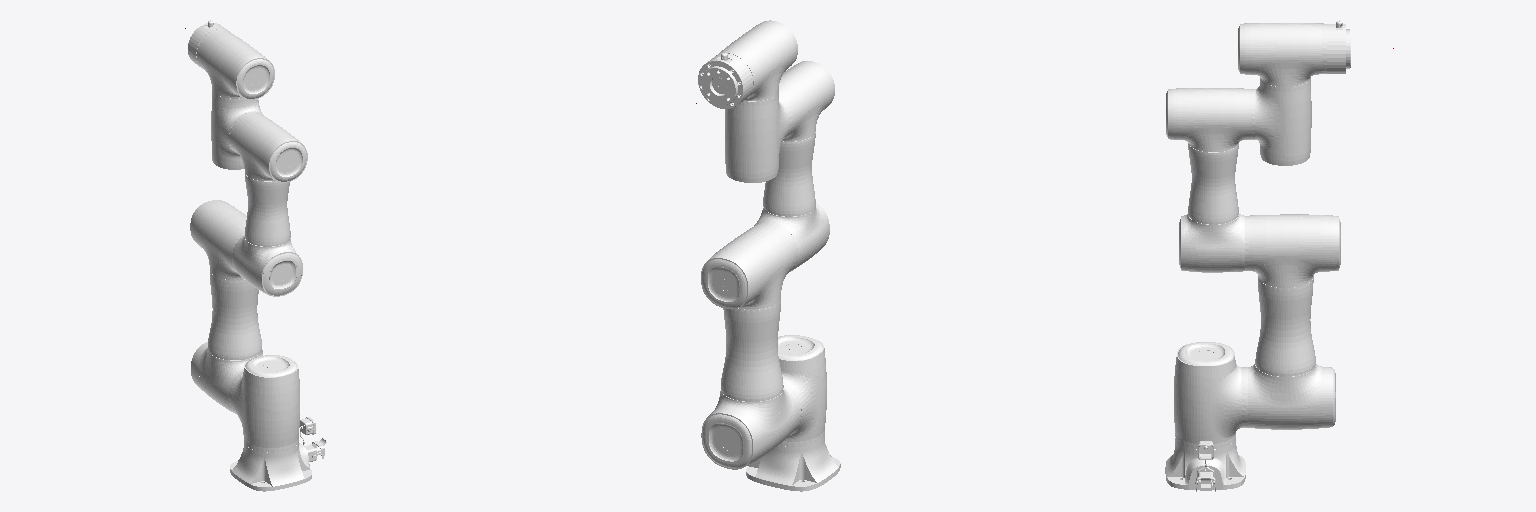
The robot description file, URDF, robot "cr3_robot":
<?xml version="1.0" ?>
<robot name="cr3_robot">
	<link name="world">
		<inertial>
			<origin rpy="0.00000 -0.00000 0.00000" xyz="0.00000 0.00000 0.00000"/>
			<mass value="0.00000"/>
			<inertia ixx="0.00000" ixy="0" ixz="0" iyy="0.00000" iyz="0" izz="0.00000"/>
		</inertial>
	</link>
	<link name="base_link">
		<inertial>
			<origin rpy="0.00000 -0.00000 0.00000" xyz="-0.00272 0.00000 0.02204"/>
			<mass value="0.65300"/>
			<inertia ixx="0.00150" ixy="0" ixz="0" iyy="0.00228" iyz="0" izz="0.00280"/>
		</inertial>
		<visual>
			<origin rpy="0.00000 -0.00000 0.00000" xyz="0.00000 0.00000 0.00000"/>
			<geometry>
				<mesh filename="../robot_arm_assets/cr3/meshes/base_link.STL" scale="1.00000 1.00000 1.00000"/>
			</geometry>
			<material name="mat_0">
				<color rgba="1.00000 1.00000 1.00000 1.00000" />
			</material>
		</visual>
		<collision>
			<origin rpy="0.00000 -0.00000 0.00000" xyz="0.00000 0.00000 0.00000"/>
			<geometry>
				<mesh filename="../robot_arm_assets/cr3/meshes/base_link.STL" scale="1.00000 1.00000 1.00000"/>
			</geometry>
		</collision>
	</link>
	<link name="Link1">
		<inertial>
			<origin rpy="0.00000 -0.00000 0.00000" xyz="-0.00004 -0.00395 0.00364"/>
			<mass value="1.31101"/>
			<inertia ixx="0.00417" ixy="0" ixz="0" iyy="0.00400" iyz="0" izz="0.00282"/>
		</inertial>
		<visual>
			<origin rpy="0.00000 -0.00000 0.00000" xyz="0.00000 0.00000 0.00000"/>
			<geometry>
				<mesh filename="../robot_arm_assets/cr3/meshes/Link1.STL" scale="1.00000 1.00000 1.00000"/>
			</geometry>
			<material name="mat_1">
				<color rgba="1.00000 1.00000 1.00000 1.00000" />
			</material>
		</visual>
		<collision>
			<origin rpy="0.00000 -0.00000 0.00000" xyz="0.00000 0.00000 0.00000"/>
			<geometry>
				<mesh filename="../robot_arm_assets/cr3/meshes/Link1.STL" scale="1.00000 1.00000 1.00000"/>
			</geometry>
		</collision>
	</link>
	<link name="Link2">
		<inertial>
			<origin rpy="0.00000 -0.00000 0.00000" xyz="-0.12924 0.00001 0.13317"/>
			<mass value="3.40044"/>
			<inertia ixx="0.01108" ixy="0" ixz="0" iyy="0.04822" iyz="0" izz="0.04400"/>
		</inertial>
		<visual>
			<origin rpy="0.00000 -0.00000 0.00000" xyz="0.00000 0.00000 0.00000"/>
			<geometry>
				<mesh filename="../robot_arm_assets/cr3/meshes/Link2.STL" scale="1.00000 1.00000 1.00000"/>
			</geometry>
			<material name="mat_2">
				<color rgba="1.00000 1.00000 1.00000 1.00000" />
			</material>
		</visual>
		<collision>
			<origin rpy="0.00000 -0.00000 0.00000" xyz="0.00000 0.00000 0.00000"/>
			<geometry>
				<mesh filename="../robot_arm_assets/cr3/meshes/Link2.STL" scale="1.00000 1.00000 1.00000"/>
			</geometry>
		</collision>
	</link>
	<link name="Link3">
		<inertial>
			<origin rpy="0.00000 -0.00000 0.00000" xyz="-0.11982 0.00000 0.00999"/>
			<mass value="2.21449"/>
			<inertia ixx="0.00597" ixy="0" ixz="0" iyy="0.02366" iyz="0" izz="0.02138"/>
		</inertial>
		<visual>
			<origin rpy="0.00000 -0.00000 0.00000" xyz="0.00000 0.00000 0.00000"/>
			<geometry>
				<mesh filename="../robot_arm_assets/cr3/meshes/Link3.STL" scale="1.00000 1.00000 1.00000"/>
			</geometry>
			<material name="mat_3">
				<color rgba="1.00000 1.00000 1.00000 1.00000" />
			</material>
		</visual>
		<collision>
			<origin rpy="0.00000 -0.00000 0.00000" xyz="0.00000 0.00000 0.00000"/>
			<geometry>
				<mesh filename="../robot_arm_assets/cr3/meshes/Link3.STL" scale="1.00000 1.00000 1.00000"/>
			</geometry>
		</collision>
	</link>
	<link name="Link4">
		<inertial>
			<origin rpy="0.00000 -0.00000 0.00000" xyz="0.00000 0.00345 -0.00287"/>
			<mass value="0.84227"/>
			<inertia ixx="0.00223" ixy="0" ixz="0" iyy="0.00124" iyz="0" izz="0.00215"/>
		</inertial>
		<visual>
			<origin rpy="0.00000 -0.00000 0.00000" xyz="0.00000 0.00000 0.00000"/>
			<geometry>
				<mesh filename="../robot_arm_assets/cr3/meshes/Link4.STL" scale="1.00000 1.00000 1.00000"/>
			</geometry>
			<material name="mat_4">
				<color rgba="1.00000 1.00000 1.00000 1.00000" />
			</material>
		</visual>
		<collision>
			<origin rpy="0.00000 -0.00000 0.00000" xyz="0.00000 0.00000 0.00000"/>
			<geometry>
				<mesh filename="../robot_arm_assets/cr3/meshes/Link4.STL" scale="1.00000 1.00000 1.00000"/>
			</geometry>
		</collision>
	</link>
	<link name="Link5">
		<inertial>
			<origin rpy="0.00000 -0.00000 0.00000" xyz="-0.00000 -0.00333 -0.00287"/>
			<mass value="0.84369"/>
			<inertia ixx="0.00224" ixy="0" ixz="0" iyy="0.00125" iyz="0" izz="0.00216"/>
		</inertial>
		<visual>
			<origin rpy="0.00000 -0.00000 0.00000" xyz="0.00000 0.00000 0.00000"/>
			<geometry>
				<mesh filename="../robot_arm_assets/cr3/meshes/Link5.STL" scale="1.00000 1.00000 1.00000"/>
			</geometry>
			<material name="mat_5">
				<color rgba="1.00000 1.00000 1.00000 1.00000" />
			</material>
		</visual>
		<collision>
			<origin rpy="0.00000 -0.00000 0.00000" xyz="0.00000 0.00000 0.00000"/>
			<geometry>
				<mesh filename="../robot_arm_assets/cr3/meshes/Link5.STL" scale="1.00000 1.00000 1.00000"/>
			</geometry>
		</collision>
	</link>
	<link name="Link6">
		<inertial>
			<origin rpy="0.00000 -0.00000 0.00000" xyz="-0.00000 0.00027 -0.02014"/>
			<mass value="0.15941"/>
			<inertia ixx="0.00015" ixy="0" ixz="0" iyy="0.00013" iyz="0" izz="0.00023"/>
		</inertial>
		<visual>
			<origin rpy="0.00000 -0.00000 0.00000" xyz="0.00000 0.00000 0.00000"/>
			<geometry>
				<mesh filename="../robot_arm_assets/cr3/meshes/Link6.STL" scale="1.00000 1.00000 1.00000"/>
			</geometry>
			<material name="mat_6">
				<color rgba="1.00000 1.00000 1.00000 1.00000" />
			</material>
		</visual>
		<collision>
			<origin rpy="0.00000 -0.00000 0.00000" xyz="0.00000 0.00000 0.00000"/>
			<geometry>
				<mesh filename="../robot_arm_assets/cr3/meshes/Link6.STL" scale="1.00000 1.00000 1.00000"/>
			</geometry>
		</collision>
	</link>
	<link name="ee_link">
		<inertial>
			<origin rpy="-3.14000 -0.00000 1.57000" xyz="0.00000 0.00000 0.00000"/>
			<mass value="0.00000"/>
			<inertia ixx="0.00000" ixy="0" ixz="0" iyy="0.00000" iyz="0" izz="0.00000"/>
		</inertial>
		<visual>
			<origin rpy="0.00000 -0.00000 0.00000" xyz="0.00000 0.00000 0.00000"/>
			<geometry>
				<sphere radius="0.00100"/>
			</geometry>
			<material name="mat_7">
				<color rgba="1.00000 1.00000 1.00000 1.00000" />
			</material>
		</visual>
		<collision>
			<origin rpy="0.00000 -0.00000 0.00000" xyz="0.00000 0.00000 0.00000"/>
			<geometry>
				<sphere radius="0.00100"/>
			</geometry>
		</collision>
	</link>
	<link name="tactip_body_link">
		<inertial>
			<origin rpy="0.00000 -0.00000 0.00000" xyz="0.00000 0.00000 0.00000"/>
			<mass value="0.25000"/>
			<inertia ixx="0.00022" ixy="0" ixz="0" iyy="0.00021" iyz="0" izz="0.00021"/>
		</inertial>
		<visual>
			<origin rpy="0.00000 -0.00000 0.00000" xyz="0.00000 0.00000 0.00000"/>
			<geometry>
				<mesh filename="../sensor_assets/flat_tactip/../standard_tactip/body/tactip_body.obj" scale="1.00000 1.00000 1.00000"/>
			</geometry>
			<material name="mat_8">
				<color rgba="0.80000 0.80000 0.80000 1.00000" />
			</material>
		</visual>
		<collision>
			<origin rpy="0.00000 -0.00000 0.00000" xyz="0.00000 0.00000 0.00000"/>
			<geometry>
				<mesh filename="../sensor_assets/flat_tactip/../standard_tactip/body/tactip_body.obj" scale="1.00000 1.00000 1.00000"/>
			</geometry>
		</collision>
	</link>
	<link name="tactip_tip_link">
		<inertial>
			<origin rpy="0.00000 -0.00000 0.00000" xyz="0.00000 0.00000 0.00000"/>
			<mass value="0.01000"/>
			<inertia ixx="0.00000" ixy="0" ixz="0" iyy="0.00000" iyz="0" izz="0.00000"/>
		</inertial>
		<visual>
			<origin rpy="0.00000 -0.00000 0.00000" xyz="0.00000 0.00000 0.00000"/>
			<geometry>
				<mesh filename="../sensor_assets/flat_tactip/tip/skin.obj" scale="1.00000 1.00000 1.00000"/>
			</geometry>
			<material name="mat_9">
				<color rgba="0.00000 0.00000 0.00000 1.00000" />
			</material>
		</visual>
		<collision>
			<origin rpy="0.00000 -0.00000 0.00000" xyz="0.00000 0.00000 0.00000"/>
			<geometry>
				<mesh filename="../sensor_assets/flat_tactip/tip/core.obj" scale="1.00000 1.00000 1.00000"/>
			</geometry>
		</collision>
	</link>
	<link name="tcp_link">
		<inertial>
			<origin rpy="0.00000 -0.00000 1.57000" xyz="0.00000 0.00000 0.00000"/>
			<mass value="0.00000"/>
			<inertia ixx="0.00000" ixy="0" ixz="0" iyy="0.00000" iyz="0" izz="0.00000"/>
		</inertial>
		<visual>
			<origin rpy="0.00000 -0.00000 0.00000" xyz="0.00000 0.00000 0.00000"/>
			<geometry>
				<sphere radius="0.00100"/>
			</geometry>
			<material name="mat_10">
				<color rgba="0.90000 0.00000 0.20000 0.50000" />
			</material>
		</visual>
	</link>
	<joint name="world_joint" type="fixed">
		<parent link="world"/>
		<child link="base_link"/>
		<dynamics damping="1.0" friction="0.0001"/>
		<origin rpy="0.00000 -0.00000 -3.14000" xyz="0.00000 0.00000 0.00000"/>
		<axis xyz="0.00000 0.00000 0.00000"/>
	</joint>
	<joint name="joint1" type="revolute">
		<parent link="base_link"/>
		<child link="Link1"/>
		<limit effort="0.00000" lower="-3.14000" upper="3.14000" velocity="0.00000"/>
		<dynamics damping="1.0" friction="0.0001"/>
		<origin rpy="0.00000 -0.00000 0.00000" xyz="0.00000 0.00000 0.12830"/>
		<axis xyz="0.00000 0.00000 1.00000"/>
	</joint>
	<joint name="joint2" type="revolute">
		<parent link="Link1"/>
		<child link="Link2"/>
		<limit effort="0.00000" lower="-3.14000" upper="3.14000" velocity="0.00000"/>
		<dynamics damping="1.0" friction="0.0001"/>
		<origin rpy="0.00000 1.57080 4.71239" xyz="0.00000 0.00000 0.00000"/>
		<axis xyz="0.00000 0.00000 1.00000"/>
	</joint>
	<joint name="joint3" type="revolute">
		<parent link="Link2"/>
		<child link="Link3"/>
		<limit effort="0.00000" lower="-2.86000" upper="2.86000" velocity="0.00000"/>
		<dynamics damping="1.0" friction="0.0001"/>
		<origin rpy="0.00000 -0.00000 0.00000" xyz="-0.27400 0.00000 0.00000"/>
		<axis xyz="0.00000 0.00000 1.00000"/>
	</joint>
	<joint name="joint4" type="revolute">
		<parent link="Link3"/>
		<child link="Link4"/>
		<limit effort="0.00000" lower="-3.14000" upper="3.14000" velocity="0.00000"/>
		<dynamics damping="1.0" friction="0.0001"/>
		<origin rpy="0.00000 0.00000 -1.57080" xyz="-0.23000 0.00000 0.12830"/>
		<axis xyz="0.00000 0.00000 1.00000"/>
	</joint>
	<joint name="joint5" type="revolute">
		<parent link="Link4"/>
		<child link="Link5"/>
		<limit effort="0.00000" lower="-3.14000" upper="3.14000" velocity="0.00000"/>
		<dynamics damping="1.0" friction="0.0001"/>
		<origin rpy="1.57080 -0.00000 0.00000" xyz="0.00000 -0.11600 0.00000"/>
		<axis xyz="0.00000 0.00000 1.00000"/>
	</joint>
	<joint name="joint6" type="revolute">
		<parent link="Link5"/>
		<child link="Link6"/>
		<limit effort="0.00000" lower="-6.28000" upper="6.28000" velocity="0.00000"/>
		<dynamics damping="1.0" friction="0.0001"/>
		<origin rpy="-1.57080 0.00000 0.00000" xyz="0.00000 0.10500 0.00000"/>
		<axis xyz="0.00000 0.00000 1.00000"/>
	</joint>
	<joint name="ee_joint" type="fixed">
		<parent link="Link6"/>
		<child link="ee_link"/>
		<dynamics damping="1.0" friction="0.0001"/>
		<origin rpy="3.14000 -0.00000 -0.00000" xyz="0.00000 0.00000 0.00000"/>
		<axis xyz="0.00000 0.00000 0.00000"/>
	</joint>
	<joint name="joint_dummy1" type="fixed">
		<parent link="ee_link"/>
		<child link="tactip_body_link"/>
		<dynamics damping="1.0" friction="0.0001"/>
		<origin rpy="-3.14159 0.00000 3.14159" xyz="0.00000 0.00000 0.00000"/>
		<axis xyz="0.00000 0.00000 1.00000"/>
	</joint>
	<joint name="tactip_tip_to_body" type="fixed">
		<parent link="tactip_body_link"/>
		<child link="tactip_tip_link"/>
		<dynamics damping="1.0" friction="0.0001"/>
		<origin rpy="1.57000 -0.00000 0.00000" xyz="0.00000 0.00000 0.06500"/>
		<axis xyz="0.00000 0.00000 0.00000"/>
	</joint>
	<joint name="tcp_joint" type="fixed">
		<parent link="tactip_body_link"/>
		<child link="tcp_link"/>
		<dynamics damping="1.0" friction="0.0001"/>
		<origin rpy="0.00000 -0.00000 0.00000" xyz="0.00000 0.00000 0.07000"/>
		<axis xyz="0.00000 0.00000 0.00000"/>
	</joint>
</robot>

--- What the picture shows (computed from the rendered views, not written in the file) ---
Views: 3 orthographic renders of the robot side by side, from view 1: azimuth 30°, elevation 25°; view 2: azimuth 150°, elevation 25°; view 3: azimuth 270°, elevation 25°.
Model cr3_robot with 12 links and 11 joints (6 revolute, 5 fixed), rooted at world, posed all joints at 0.
Visible links, largest first — view 1: Link3, Link2, Link1, Link5, base_link, Link4; view 2: Link2, Link3, Link4, Link1, Link5, base_link, Link6; view 3: Link2, Link3, Link1, Link5, Link4, base_link, Link6.
Boxes of the visible links, x1,y1,x2,y2 form: Link3: (229,112,307,296); Link2: (190,200,262,413); Link1: (231,355,299,452); Link5: (196,29,274,99); base_link: (230,417,326,491); Link4: (211,91,262,169); Link2: (701,221,801,469); Link3: (754,61,834,271); Link4: (725,91,790,182); Link1: (778,335,826,446); Link5: (716,20,797,100); base_link: (746,436,840,491); Link6: (698,53,752,108); Link2: (1242,214,1340,429); Link3: (1166,88,1254,272); Link1: (1174,342,1241,448); Link5: (1238,23,1326,86); Link4: (1255,78,1311,165); base_link: (1165,437,1245,491); Link6: (1327,20,1350,73).
Size in the robot's own frame: 0.1753 by 0.3693 by 0.8041 metres.
7 mesh visuals loaded from 9 distinct referenced files (7 binary STL); not drawn: 2 (reference not matched to a file when rendering).